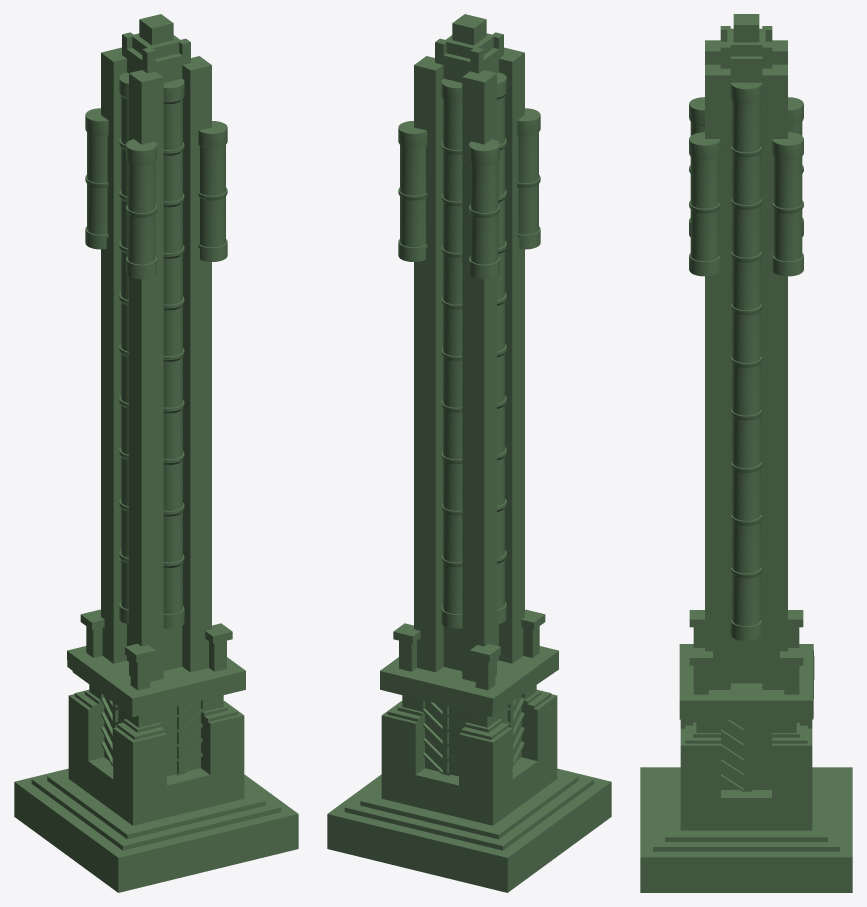
File: ObeliskPrefab.fbx
3 views of the same model, side by side, from view 1: azimuth 30°, elevation 25°; view 2: azimuth 150°, elevation 25°; view 3: azimuth 270°, elevation 25° (orthographic). The views are drawn at different scales.
Visible parts, largest first — view 1: Obelisco Grande; view 2: Obelisco Grande; view 3: Obelisco Grande.
Boxes of the visible parts, <box> form: Obelisco Grande: <box>14,14,298,892</box>; Obelisco Grande: <box>327,14,611,892</box>; Obelisco Grande: <box>640,14,852,892</box>.
Size of the model in its own units: 326 by 1400 by 326.
